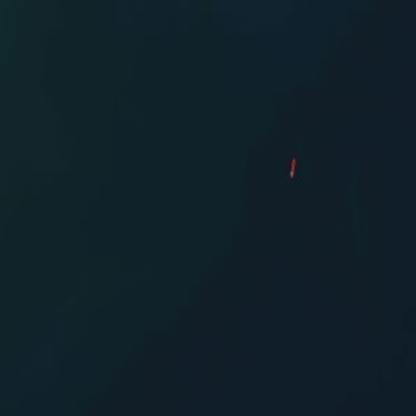ship: (286, 0, 297, 14)
